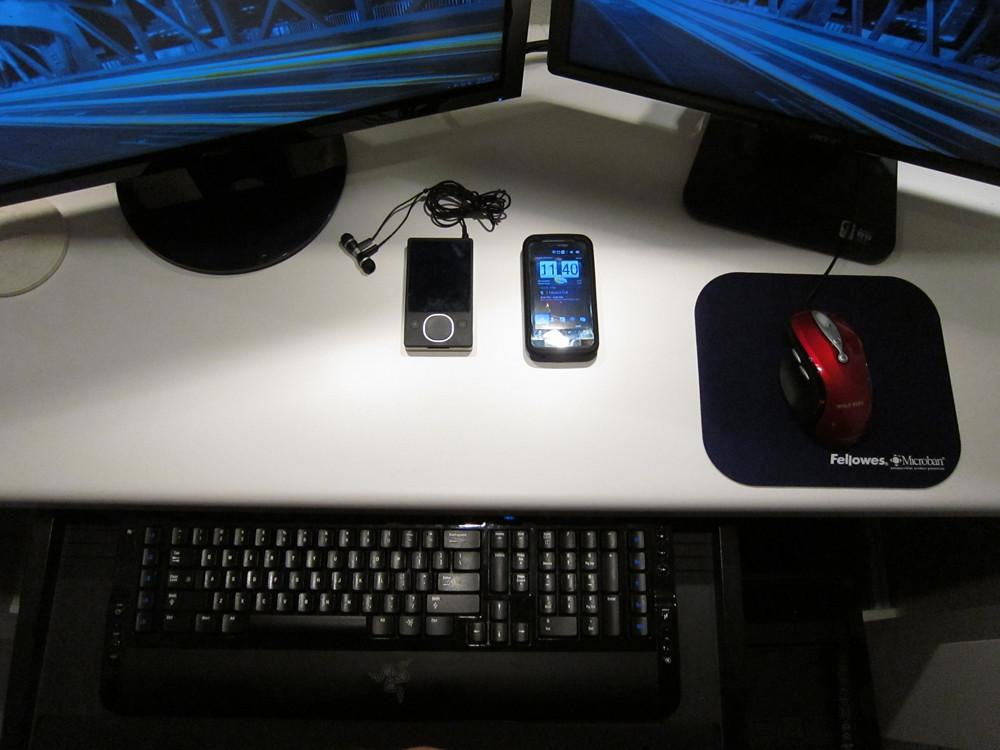computer: (2, 2, 999, 747), (1, 1, 531, 277), (547, 1, 999, 266)
